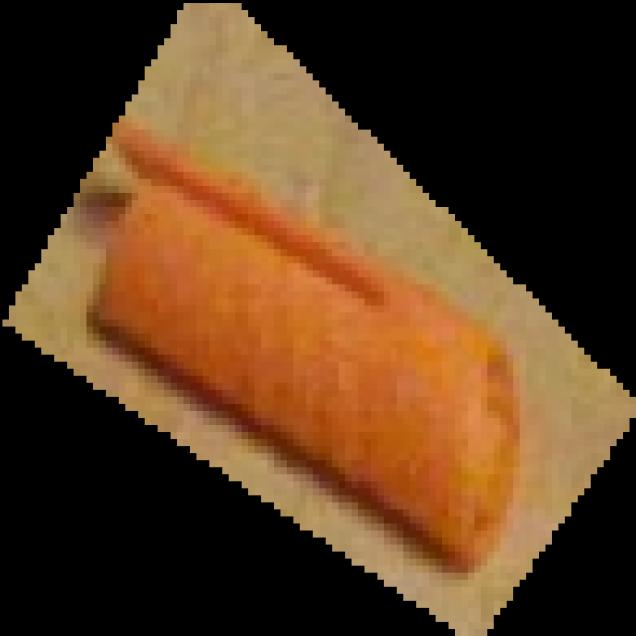orange: (0, 1, 636, 636)
